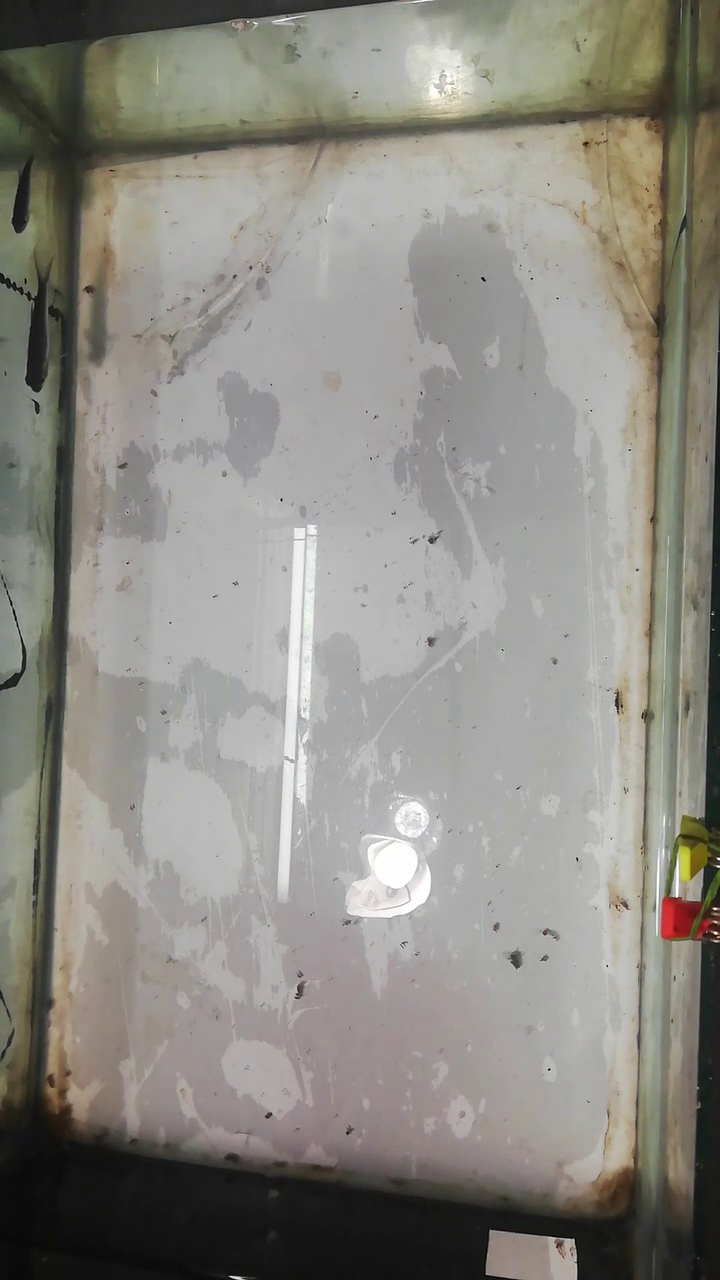fish1: (86, 258, 113, 364)
fish2: (10, 148, 36, 238)
